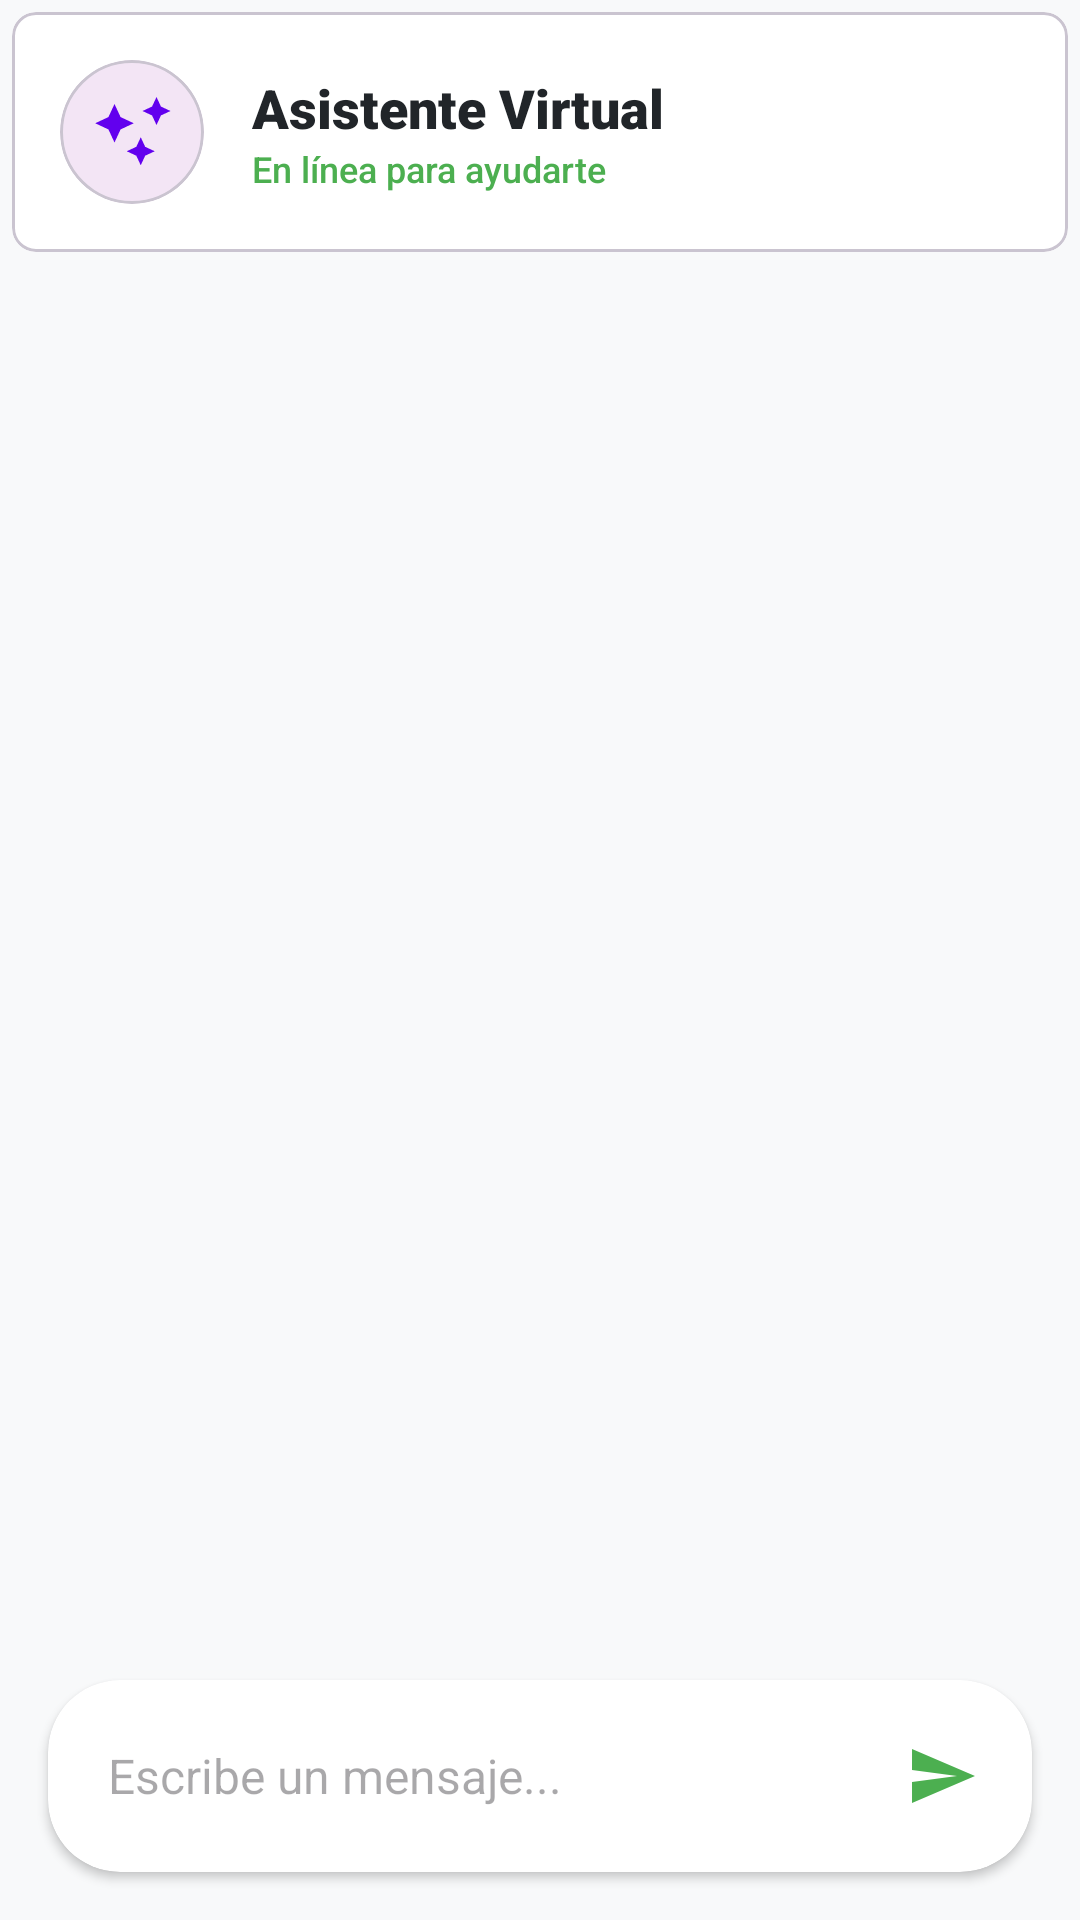

Where icons sit on this 1080px×1920px app screen, as (x1, y1, x2, y2):
send: (912, 1749, 975, 1803)
